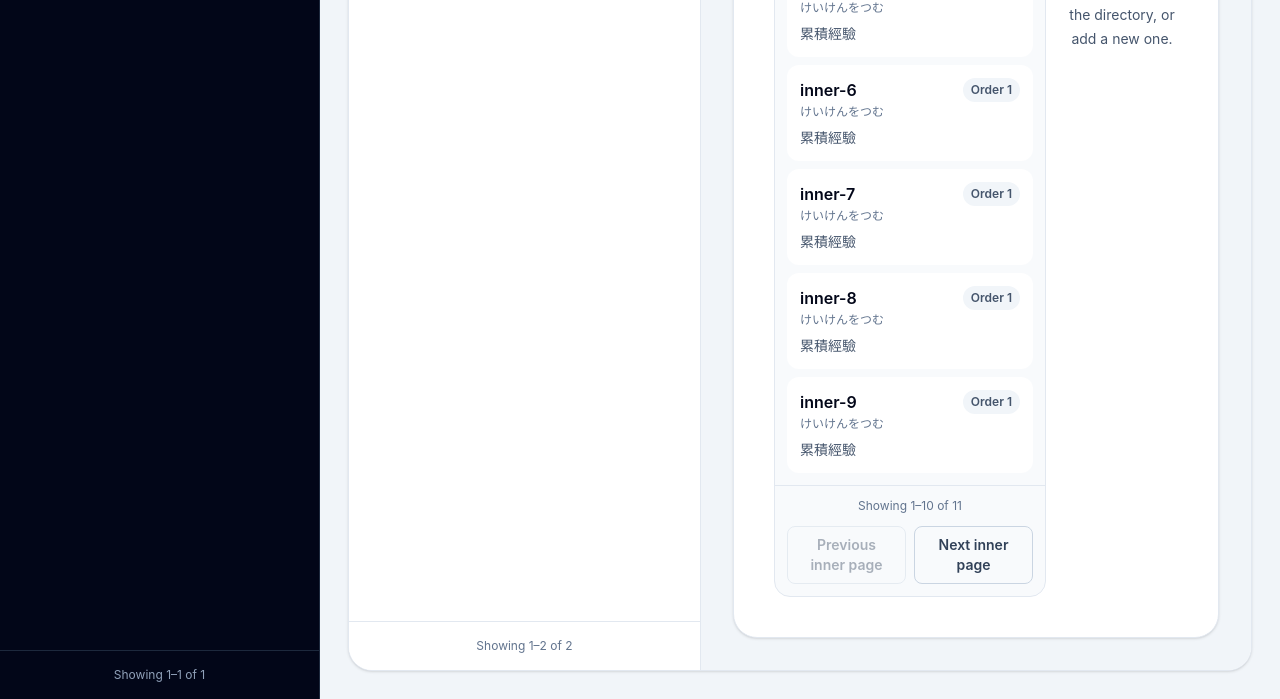
inner-card directory and parent scope › uses backend pagination parameters
(page scrolled)
Expected: the text "Showing 1–10 of 11" is shown, top-left (858, 498), bottom-right (962, 513)
Click the button "Next inner page" at (974, 555), box top-left (914, 526), bottom-right (1033, 584)
(page scrolled)
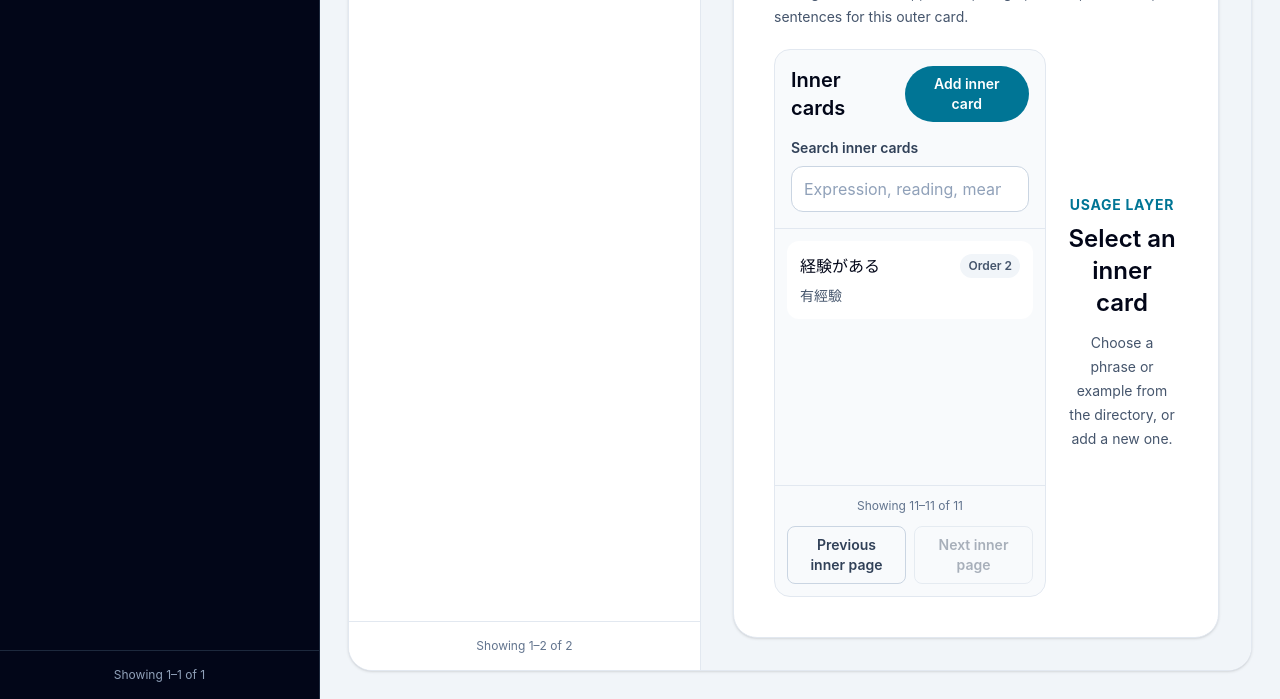
Result: the text "Showing 11–11 of 11" is shown at top-left (857, 498), bottom-right (963, 513)
